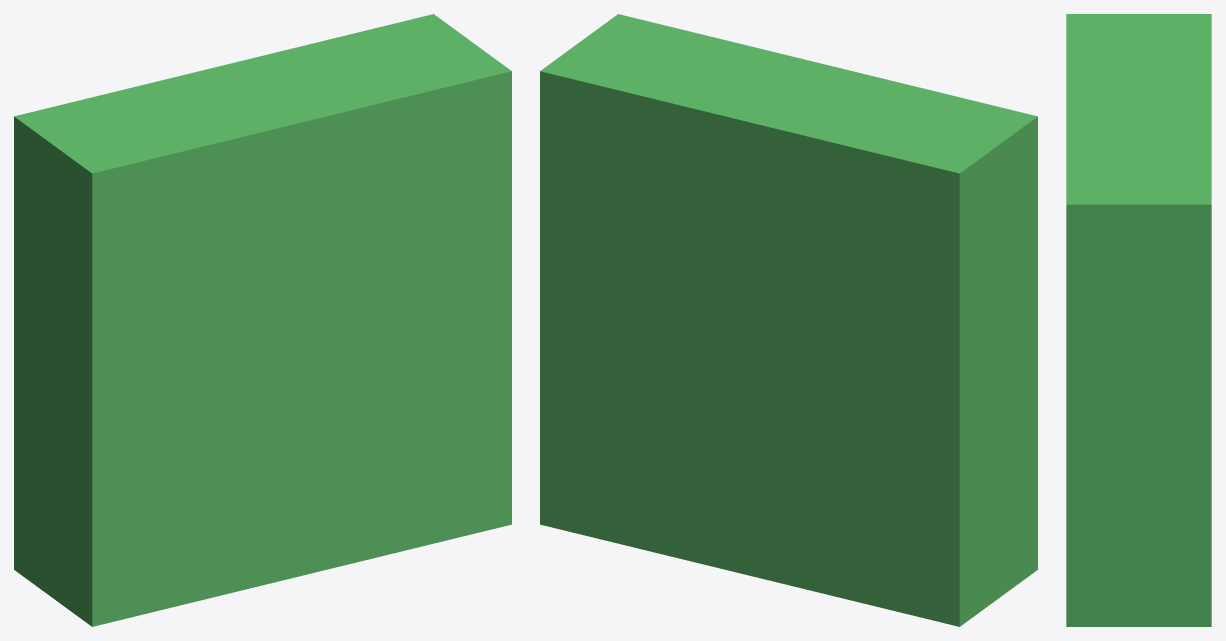
The model's file is balustrade_vault_end_collision.glb.
The picture shows the model from 3 angles, left to right: view 1: azimuth 30°, elevation 25°; view 2: azimuth 150°, elevation 25°; view 3: azimuth 270°, elevation 25°; orthographic projection. The views are drawn at different scales.
Visible parts, largest first — view 1: balustrade_vault_end-col; view 2: balustrade_vault_end-col; view 3: balustrade_vault_end-col.
Boxes of the visible parts, x1=… form: balustrade_vault_end-col: x1=14, y1=14, x2=511, y2=626; balustrade_vault_end-col: x1=540, y1=14, x2=1037, y2=626; balustrade_vault_end-col: x1=1066, y1=14, x2=1211, y2=626.
Bounding box in the file's own units: 1.24 × 1.28 × 0.4.
